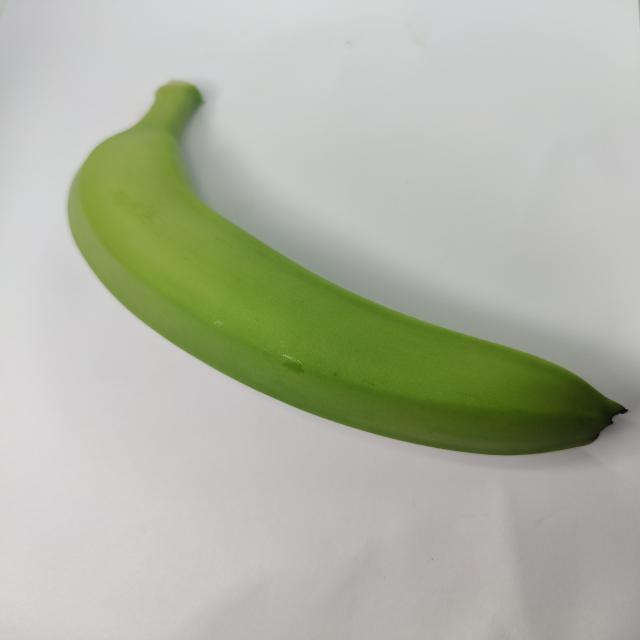raw: (45, 68, 640, 494)
